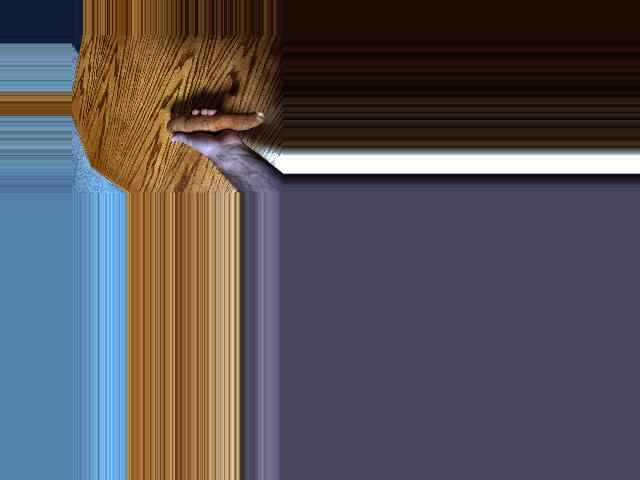sweet_potato: (170, 112, 265, 141)
